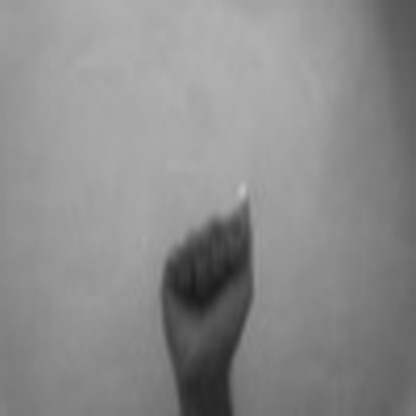a: (149, 173, 259, 365)
